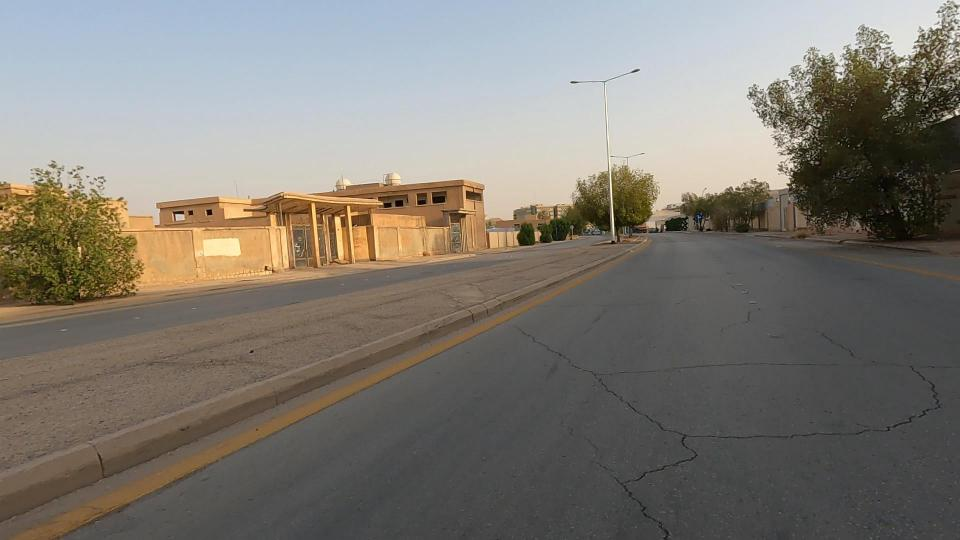POTHOLES: (733, 292, 960, 500), (569, 360, 805, 521), (483, 310, 697, 449)
